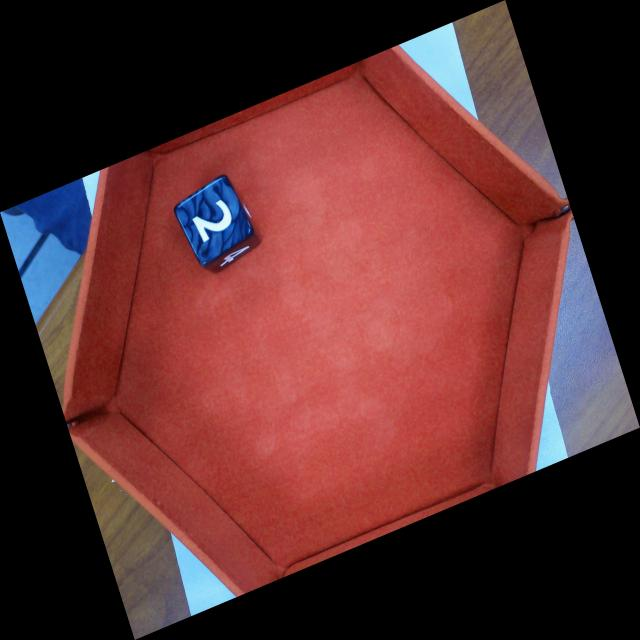dice: (171, 172, 256, 270)
